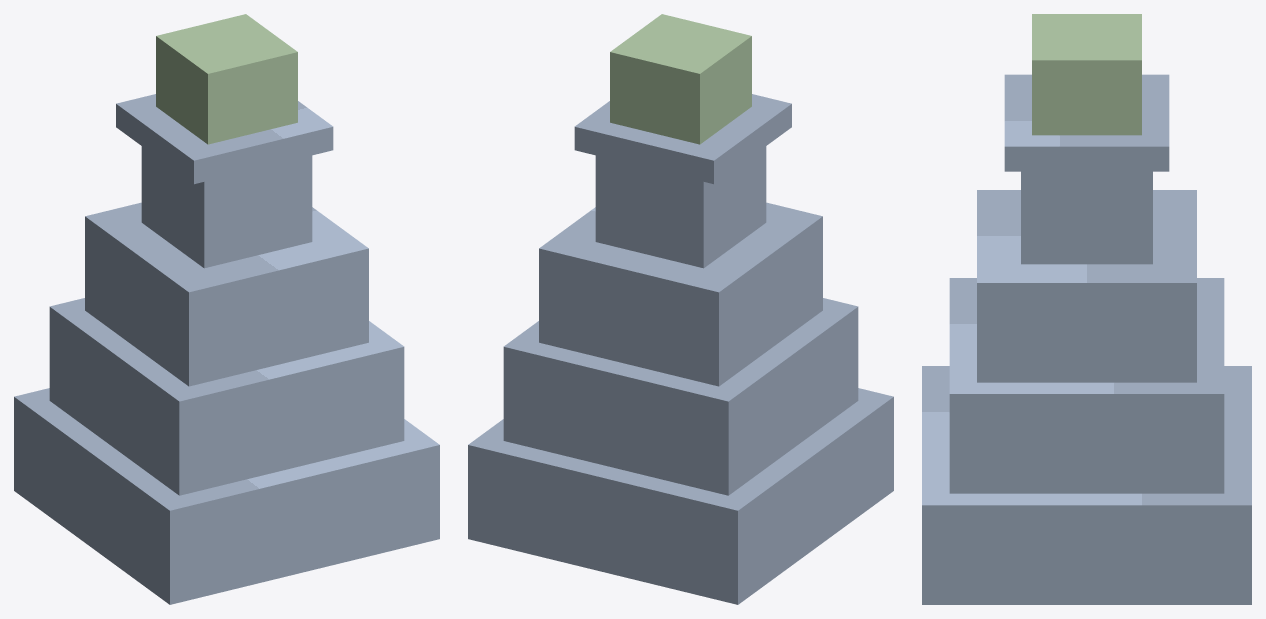
File: IAPotionFlask.gltf
3 views of the same model, side by side, from view 1: azimuth 30°, elevation 25°; view 2: azimuth 150°, elevation 25°; view 3: azimuth 270°, elevation 25° (orthographic). The views are drawn at different scales.
Parts seen in each view (by area): view 1: 9bb9da4d-2257-b171-2947-a7e0f99531f7, 83a0cfc1-294b-a5b8-6698-3354c68be859, 39ec8c13-0b81-bea3-6dcd-79d35a392549, 79f0f279-9869-ce92-3935-e74a8884325e, 631b0154-9caa-38bc-8ec5-11950c34af45, 53b1f54f-a729-00fc-ab21-3f649c655c70; view 2: 9bb9da4d-2257-b171-2947-a7e0f99531f7, 83a0cfc1-294b-a5b8-6698-3354c68be859, 39ec8c13-0b81-bea3-6dcd-79d35a392549, 79f0f279-9869-ce92-3935-e74a8884325e, 631b0154-9caa-38bc-8ec5-11950c34af45, 53b1f54f-a729-00fc-ab21-3f649c655c70; view 3: 9bb9da4d-2257-b171-2947-a7e0f99531f7, 83a0cfc1-294b-a5b8-6698-3354c68be859, 39ec8c13-0b81-bea3-6dcd-79d35a392549, 79f0f279-9869-ce92-3935-e74a8884325e, 631b0154-9caa-38bc-8ec5-11950c34af45, 53b1f54f-a729-00fc-ab21-3f649c655c70.
Part boxes in pixels (left/top/right/bottom): 9bb9da4d-2257-b171-2947-a7e0f99531f7: left=14, top=388, right=439, bottom=604; 83a0cfc1-294b-a5b8-6698-3354c68be859: left=49, top=298, right=404, bottom=495; 39ec8c13-0b81-bea3-6dcd-79d35a392549: left=85, top=202, right=368, bottom=386; 79f0f279-9869-ce92-3935-e74a8884325e: left=156, top=14, right=297, bottom=144; 631b0154-9caa-38bc-8ec5-11950c34af45: left=141, top=146, right=312, bottom=268; 53b1f54f-a729-00fc-ab21-3f649c655c70: left=116, top=94, right=333, bottom=184; 9bb9da4d-2257-b171-2947-a7e0f99531f7: left=468, top=388, right=893, bottom=604; 83a0cfc1-294b-a5b8-6698-3354c68be859: left=503, top=298, right=858, bottom=495; 39ec8c13-0b81-bea3-6dcd-79d35a392549: left=539, top=202, right=822, bottom=386; 79f0f279-9869-ce92-3935-e74a8884325e: left=610, top=14, right=751, bottom=144; 631b0154-9caa-38bc-8ec5-11950c34af45: left=595, top=146, right=766, bottom=268; 53b1f54f-a729-00fc-ab21-3f649c655c70: left=574, top=94, right=791, bottom=184; 9bb9da4d-2257-b171-2947-a7e0f99531f7: left=922, top=366, right=1251, bottom=604; 83a0cfc1-294b-a5b8-6698-3354c68be859: left=949, top=278, right=1224, bottom=493; 39ec8c13-0b81-bea3-6dcd-79d35a392549: left=977, top=190, right=1196, bottom=382; 79f0f279-9869-ce92-3935-e74a8884325e: left=1032, top=14, right=1141, bottom=135; 631b0154-9caa-38bc-8ec5-11950c34af45: left=1021, top=171, right=1152, bottom=264; 53b1f54f-a729-00fc-ab21-3f649c655c70: left=1004, top=74, right=1169, bottom=171.
Size of the model in its own units: 3 by 5 by 3.
2 materials, 2 textured.
